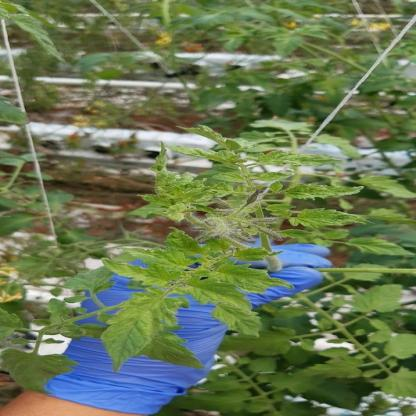T_F_H: (260, 228, 283, 240)
T_Fl_R: (247, 189, 265, 205)
T_L_H: (100, 293, 163, 373), (110, 265, 182, 288), (211, 304, 261, 337), (290, 209, 369, 229)
T_L_R: (216, 263, 288, 294), (179, 279, 251, 307), (126, 247, 198, 270), (284, 185, 362, 200), (166, 228, 202, 255), (235, 249, 270, 262)
